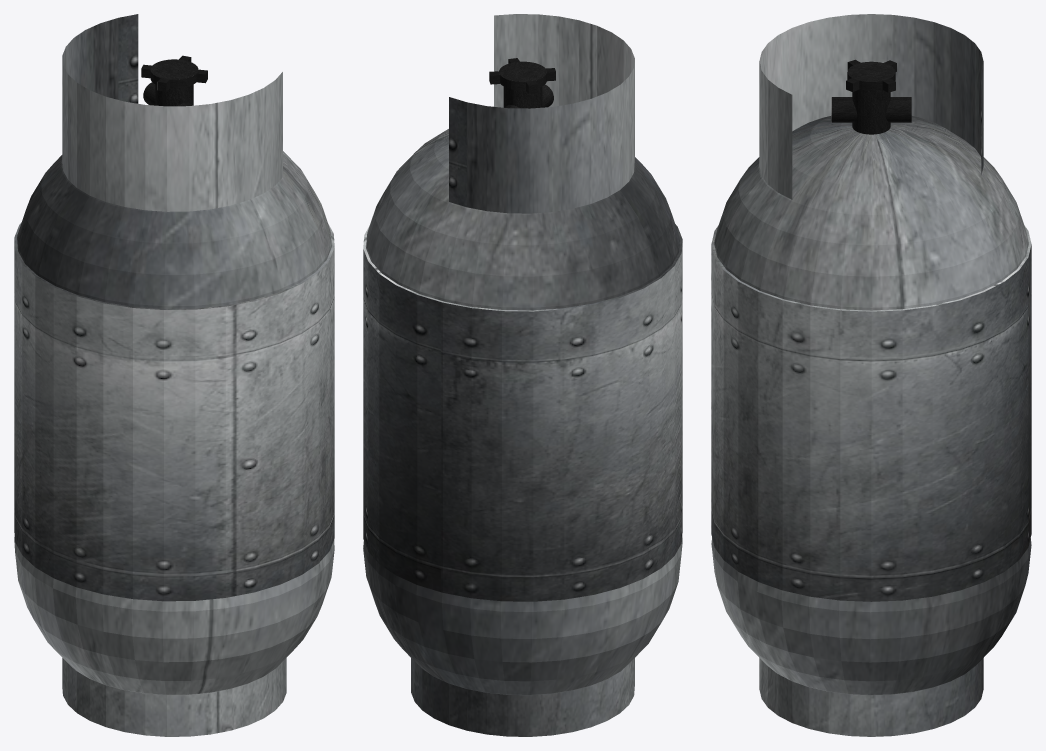
File: tanque.fbx
3 views of the same model, side by side, from view 1: azimuth 30°, elevation 25°; view 2: azimuth 150°, elevation 25°; view 3: azimuth 270°, elevation 25° (orthographic).
Visible parts, largest first — view 1: Cilindro.004; view 2: Cilindro.004; view 3: Cilindro.004.
Part boxes in pixels (<box>): Cilindro.004: <box>14,14,334,736</box>; Cilindro.004: <box>363,14,682,736</box>; Cilindro.004: <box>711,14,1031,736</box>.
Bounding box in the file's own units: 200 × 433 × 200.
6 materials, 6 textured.
